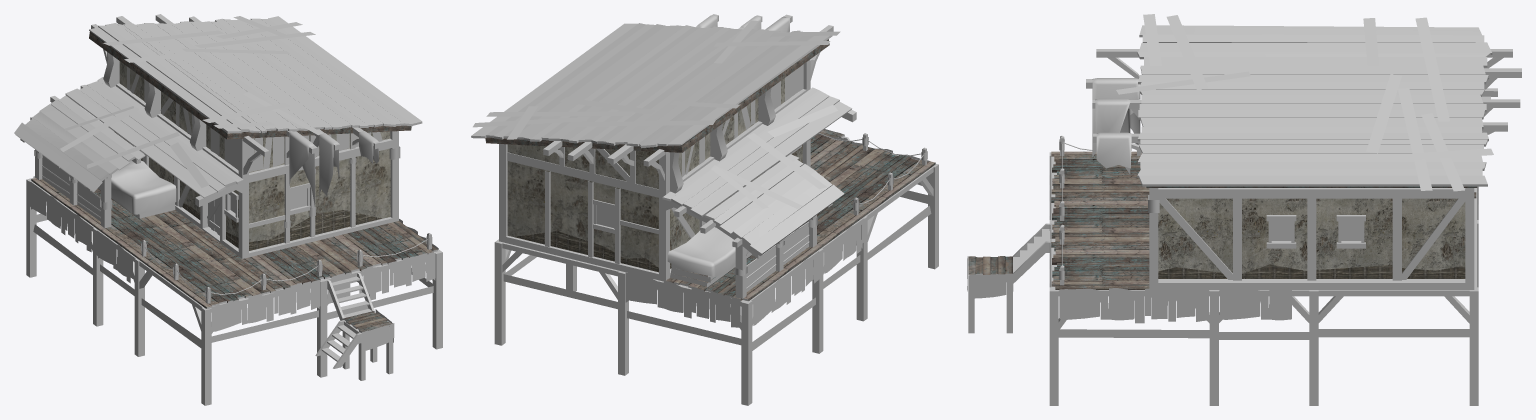
Rendered from House2_LOD1.fbx.
3 renders of one model, left to right at view 1: azimuth 30°, elevation 25°; view 2: azimuth 150°, elevation 25°; view 3: azimuth 270°, elevation 25°, orthographic. The views are drawn at different scales.
Parts seen in each view (by area): view 1: Base, Stairs; view 2: Base; view 3: Base, Stairs.
Part boxes in pixels (bbox=[...]): Base: bbox=[14, 14, 442, 405]; Stairs: bbox=[315, 272, 394, 380]; Base: bbox=[471, 14, 938, 405]; Base: bbox=[1049, 14, 1521, 405]; Stairs: bbox=[967, 223, 1050, 333].
Bounding box in the file's own units: 12.79 × 10.34 × 18.36.
